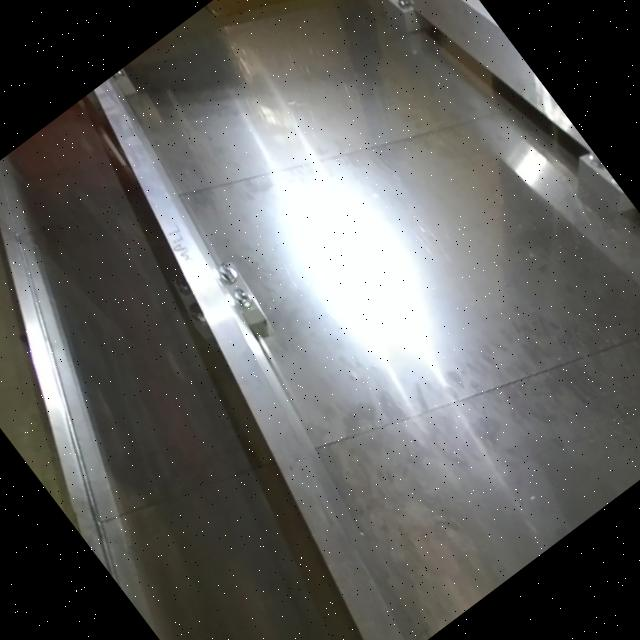blocks: (140, 215, 292, 381), (542, 114, 640, 251), (358, 0, 456, 70), (76, 64, 146, 128)
